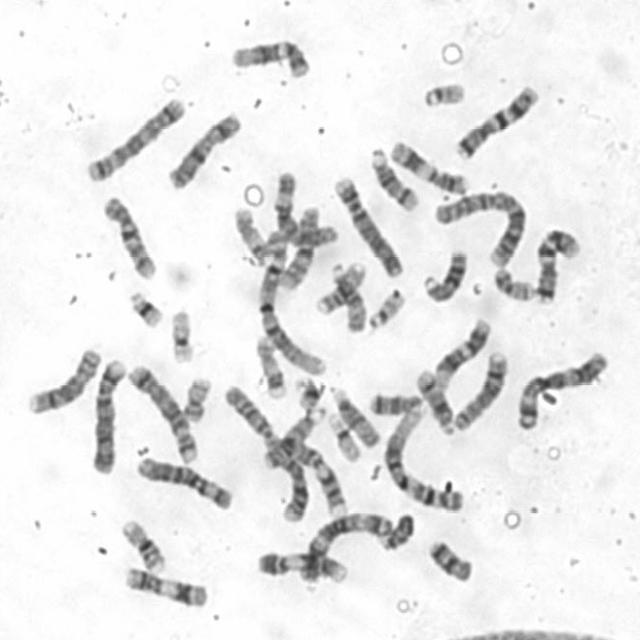A1: (255, 224, 328, 378), (381, 404, 467, 512)
A2: (220, 380, 336, 522), (430, 185, 528, 269)
A3: (512, 347, 610, 432), (297, 508, 394, 584)
B4: (332, 173, 404, 279), (86, 354, 128, 474)
B5: (82, 93, 188, 185), (126, 360, 198, 464)
C10: (98, 192, 159, 281), (276, 202, 322, 291)
C11: (385, 136, 470, 196), (121, 564, 210, 609)
C12: (431, 313, 492, 390), (227, 37, 313, 80)
C6: (134, 453, 236, 512), (268, 168, 339, 248)
C7: (450, 81, 540, 162), (532, 224, 583, 305)
C8: (22, 344, 103, 416), (450, 347, 509, 432)
C9: (293, 440, 351, 518), (252, 545, 349, 585)
D13: (264, 406, 326, 470), (418, 244, 469, 304)
D14: (368, 144, 420, 212), (412, 364, 457, 436)
D15: (329, 383, 381, 448), (328, 257, 368, 334)
E16: (311, 257, 369, 315), (117, 516, 168, 574)
E17: (252, 332, 287, 400), (230, 204, 268, 266)
E18: (427, 536, 474, 584), (365, 388, 424, 416)
F19: (324, 409, 362, 463), (166, 305, 198, 366)
F20: (490, 262, 535, 303), (179, 372, 213, 422)
G21: (126, 287, 164, 330), (292, 374, 325, 413)
G22: (364, 285, 408, 331), (420, 77, 467, 109)
X: (164, 107, 243, 193)
Y: (376, 509, 416, 551)
